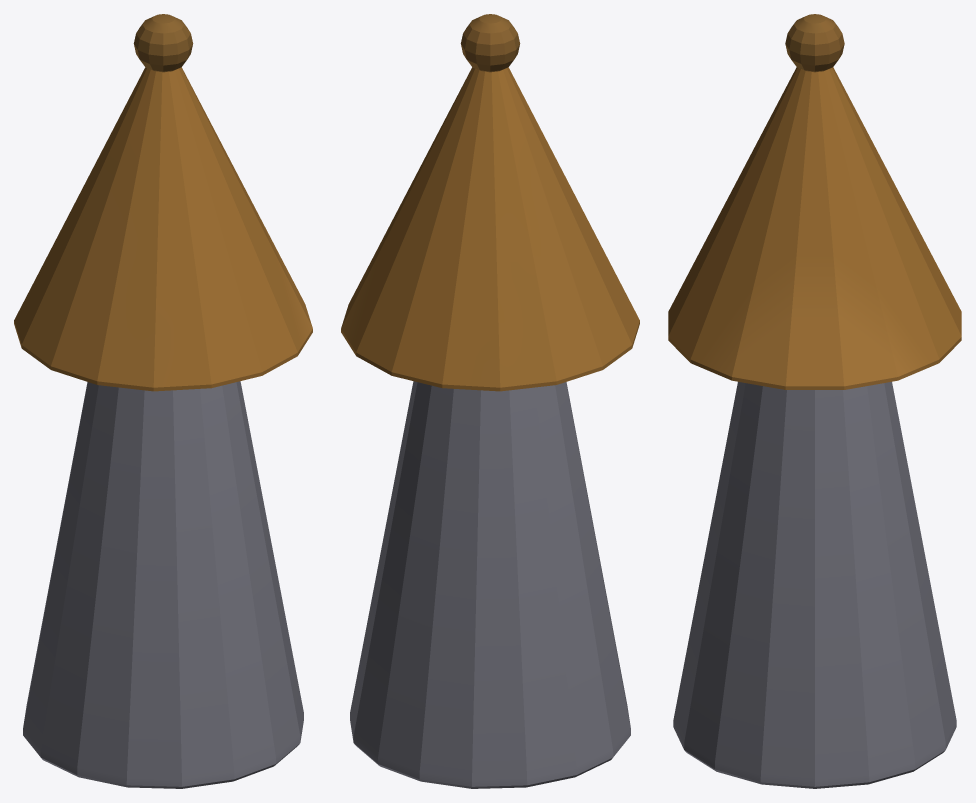
Rendered from moulin_base.fbx.
The picture shows the model from 3 angles, left to right: view 1: azimuth 30°, elevation 25°; view 2: azimuth 150°, elevation 25°; view 3: azimuth 270°, elevation 25°; orthographic projection.
Parts seen in each view (by area): view 1: Cylinder; view 2: Cylinder; view 3: Cylinder.
Part boxes in pixels (x1=…): Cylinder: x1=14, y1=14, x2=312, y2=788; Cylinder: x1=341, y1=14, x2=639, y2=788; Cylinder: x1=668, y1=14, x2=961, y2=788.
Size of the model in its own units: 290 by 776 by 290.
